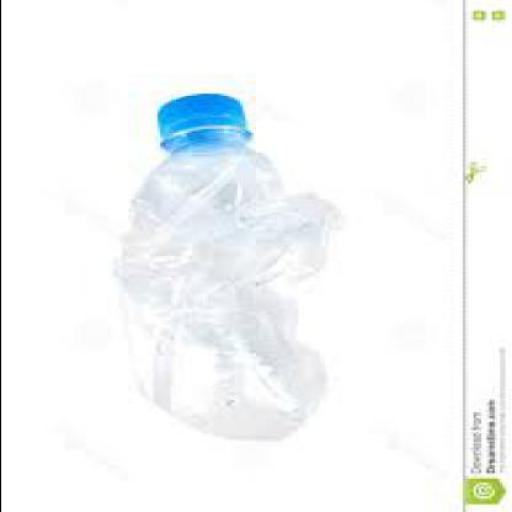plastic: (112, 94, 329, 444), (153, 96, 247, 148)
